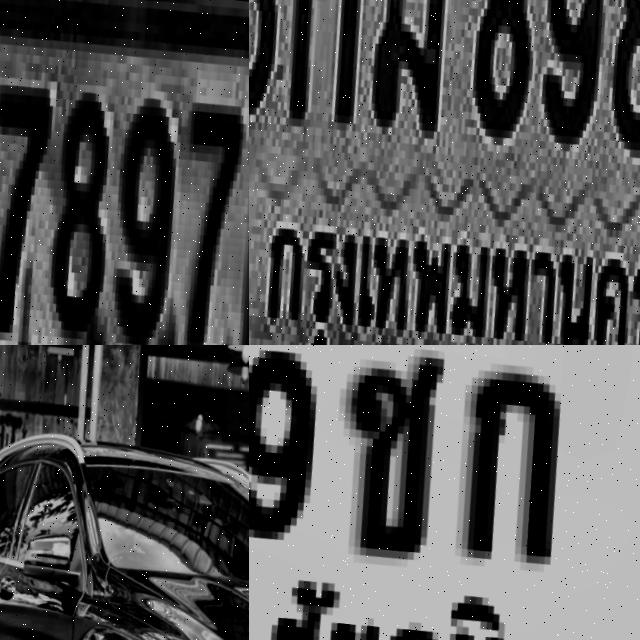license-plate: (249, 0, 640, 345), (249, 345, 640, 640), (0, 0, 249, 345)
